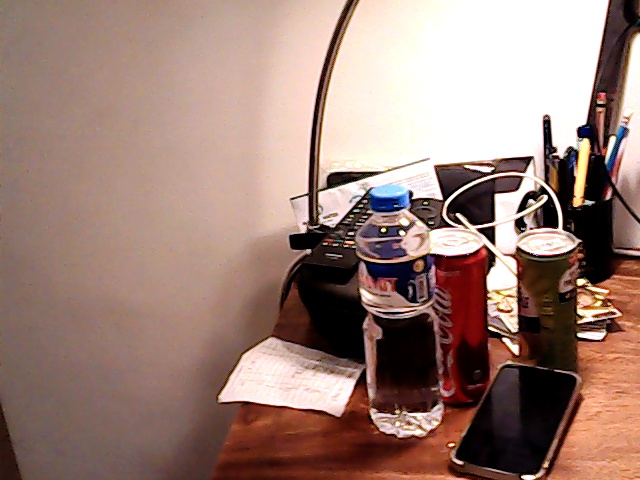Cola: (435, 230, 498, 409)
Pine Juice: (508, 223, 595, 375)
Summit Water: (349, 173, 440, 439)
